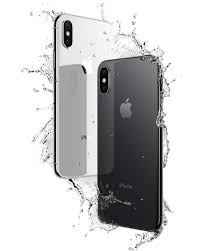iphone: (93, 52, 163, 234)
iphone10: (91, 50, 161, 232)
